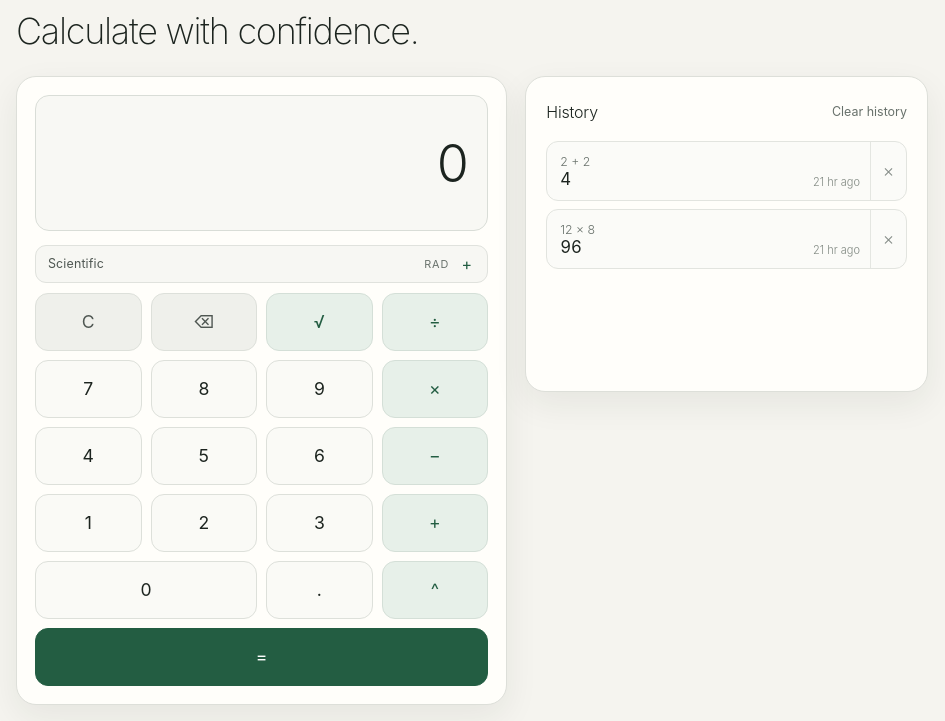
Test case: history › deletes one entry and persists the change
The width and height of the screenshot is (945, 721).
What coordinates should you click on to do the following:
click the button named "Delete calculation 2 + 2"
I would click on:
 (888, 171)
Its box is [870,142,906,200].
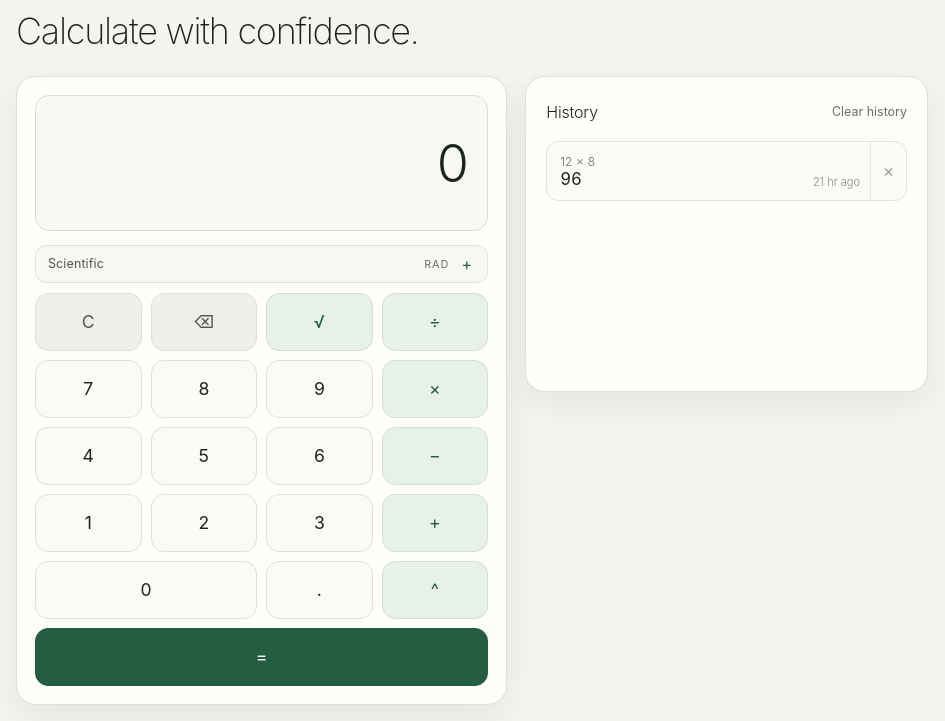
Expected: the text "12 × 8" is shown, [560,154,595,169]
Expected: the button "2 + 2" is gone
